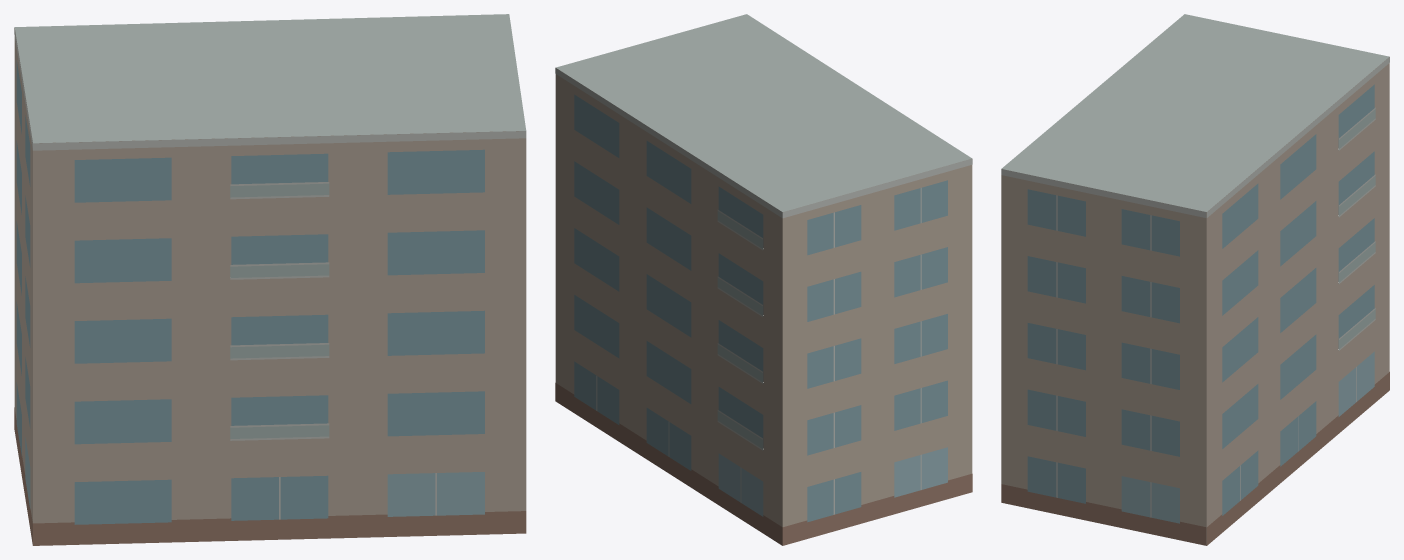
Rendered from survey-upis-32893109.glb.
The picture shows the model from 3 angles, left to right: view 1: azimuth 30°, elevation 25°; view 2: azimuth 150°, elevation 25°; view 3: azimuth 270°, elevation 25°; orthographic projection. The views are drawn at different scales.
Parts seen in each view (by area): view 1: survey-upis-32893109.tmp; view 2: survey-upis-32893109.tmp; view 3: survey-upis-32893109.tmp.
Boxes of the visible parts, <box> form: survey-upis-32893109.tmp: <box>14,14,526,545</box>; survey-upis-32893109.tmp: <box>555,14,972,545</box>; survey-upis-32893109.tmp: <box>1001,14,1389,545</box>.
Size of the model in its own units: 16.81 by 13.2 by 13.93.
